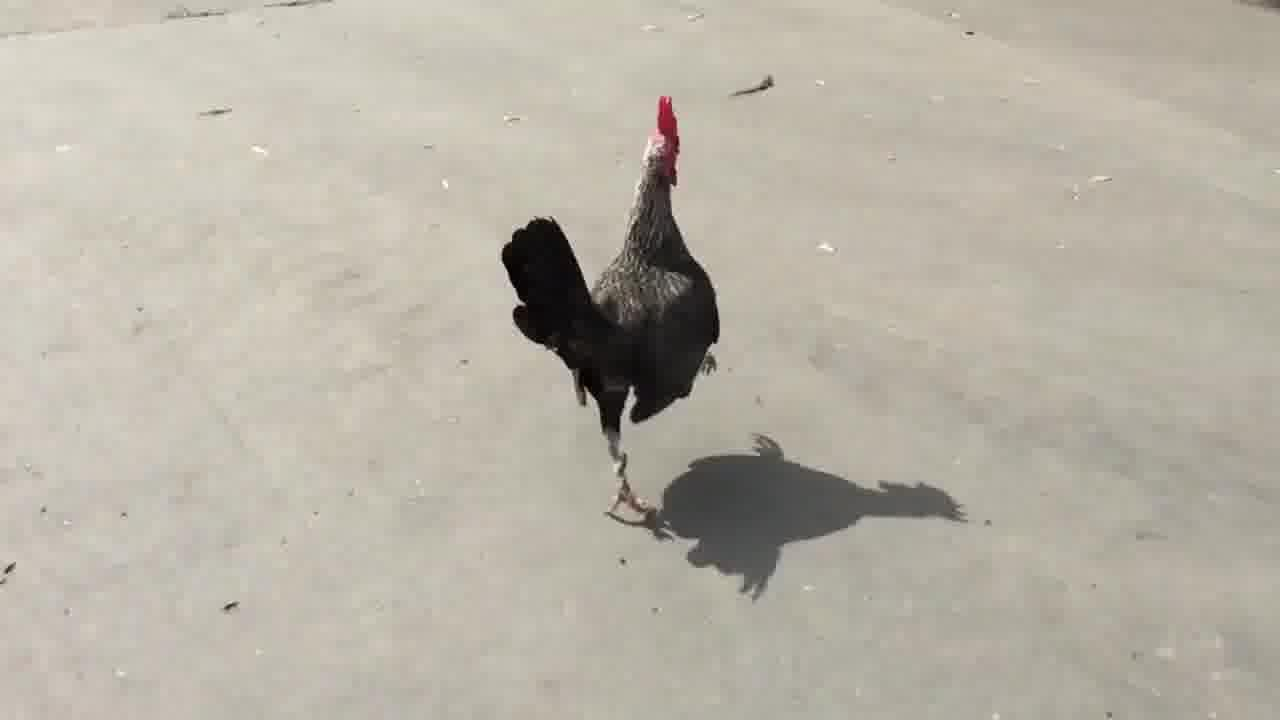Normal: (498, 98, 730, 512)
